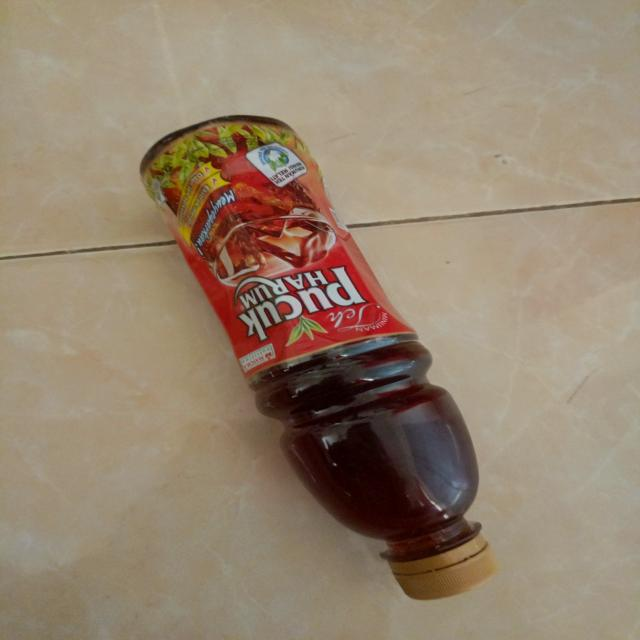teh-pucuk: (137, 110, 504, 601)
